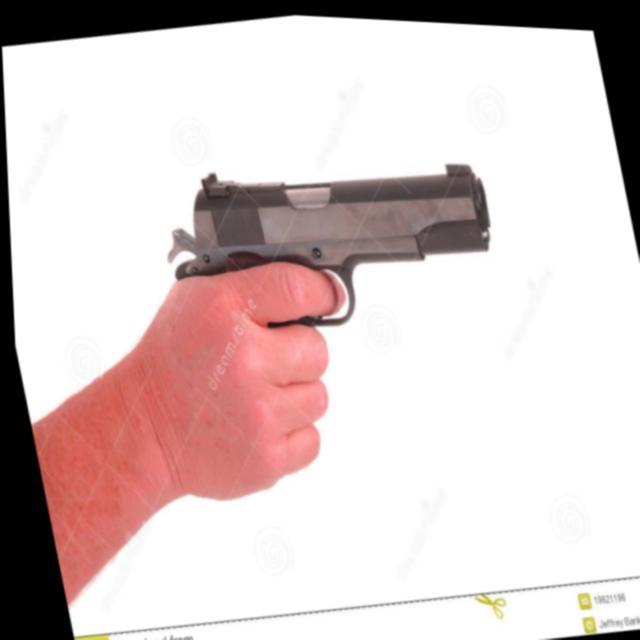weapon: (142, 114, 546, 516)
